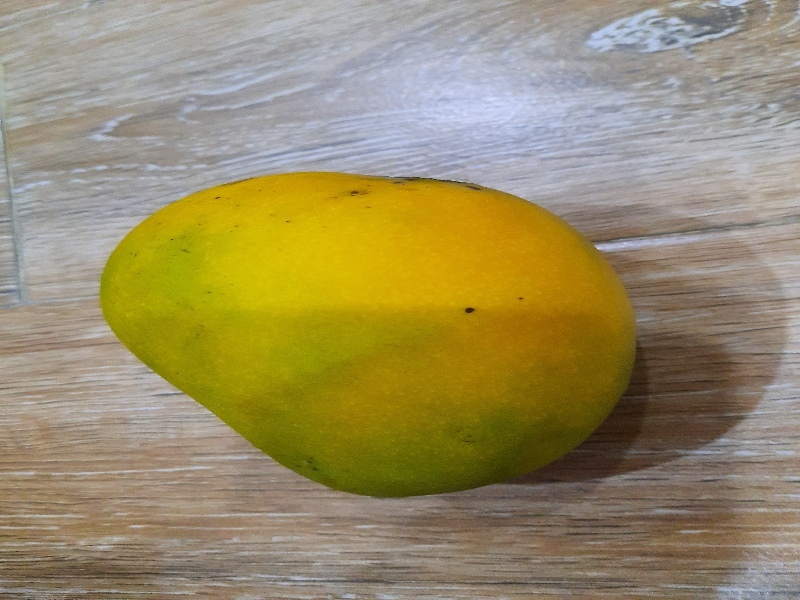fruit: (95, 169, 649, 498)
